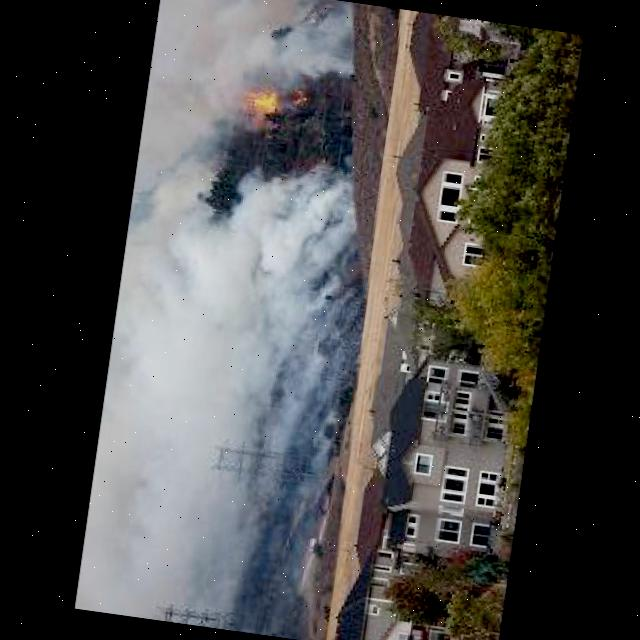fire: (227, 0, 363, 96), (237, 69, 311, 124)
